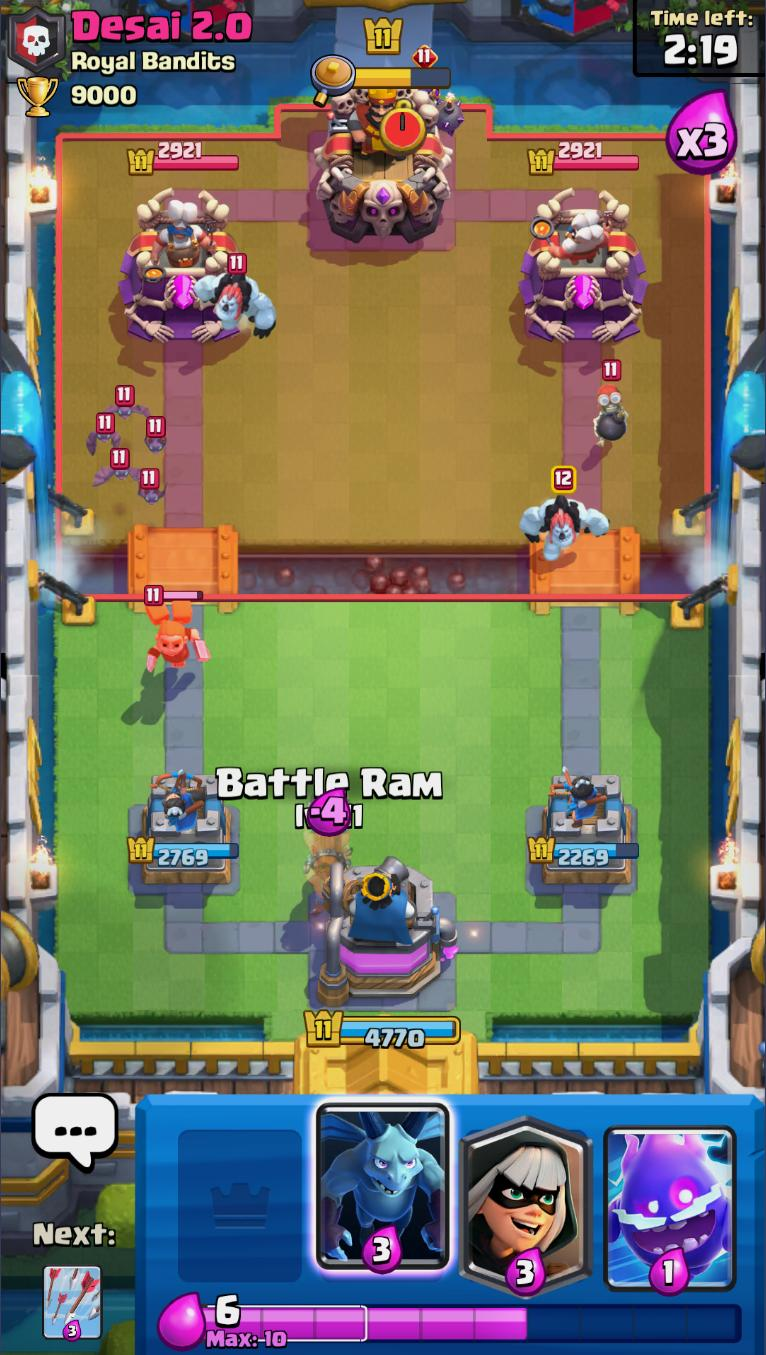ArrowNext: (41, 1261, 104, 1343)
BanditDeck: (453, 1100, 599, 1300)
Bat: (91, 447, 146, 487), (101, 385, 150, 423), (83, 414, 129, 454), (142, 415, 172, 453), (138, 466, 166, 506)
Berserker: (141, 585, 207, 683)
Bomber: (591, 361, 630, 449)
Chef: (147, 199, 220, 270), (540, 204, 614, 269)
ElectroSpiritDeck: (599, 1100, 744, 1297)
Elixir: (202, 1296, 742, 1349)
Empty: (167, 1097, 313, 1290)
EnemyTower: (119, 189, 249, 344), (520, 189, 649, 343)
EvoBomber: (413, 46, 467, 139)
IceGolem: (519, 466, 610, 560), (192, 255, 279, 339)
KingTower: (314, 84, 456, 244)
MinionsDeck: (310, 1100, 456, 1296)
MyKingHP: (301, 1004, 463, 1053)
MyKingTower: (311, 853, 461, 1009)
MyPrincessTower: (127, 774, 240, 889), (529, 774, 641, 890)
MyPrincessTowerHP: (126, 833, 241, 869), (529, 833, 641, 867)
TowerPrincessHP: (529, 141, 641, 177), (129, 141, 241, 174)
